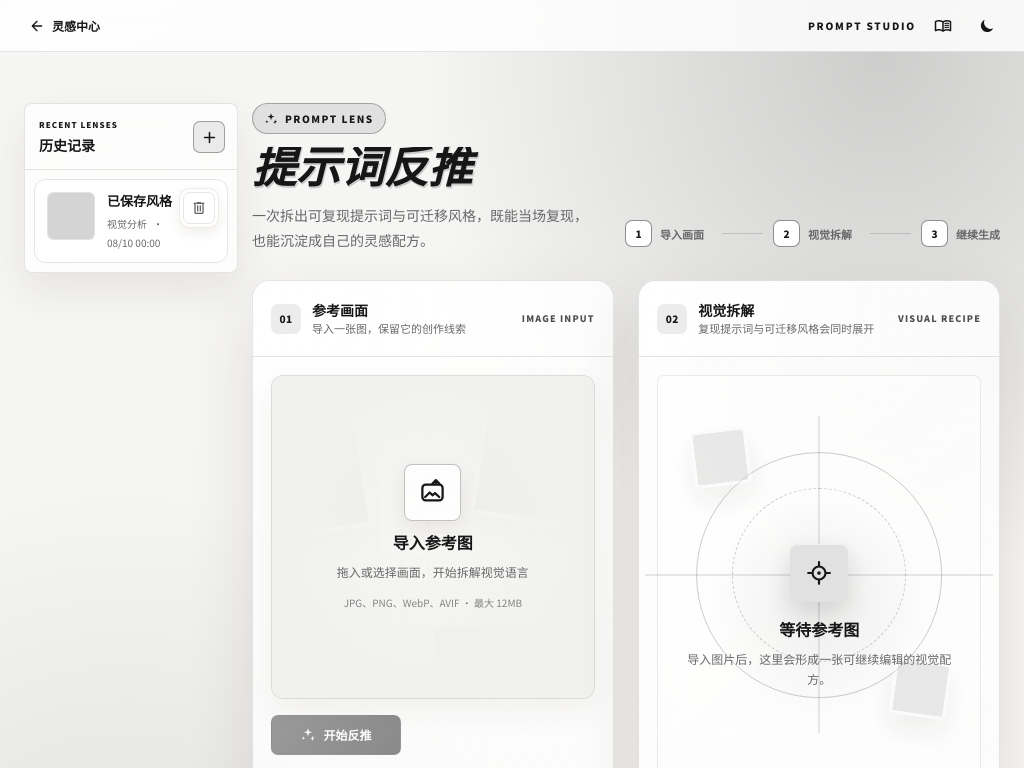
Test case: ImagePromptPage workspace layout › does not duplicate a recipe already attached to history
The width and height of the screenshot is (1024, 768).
Click the button "已保存风格 视觉分析 · 08/10 00:00": point(131, 221) [35,180,227,262]
(page scrolled)
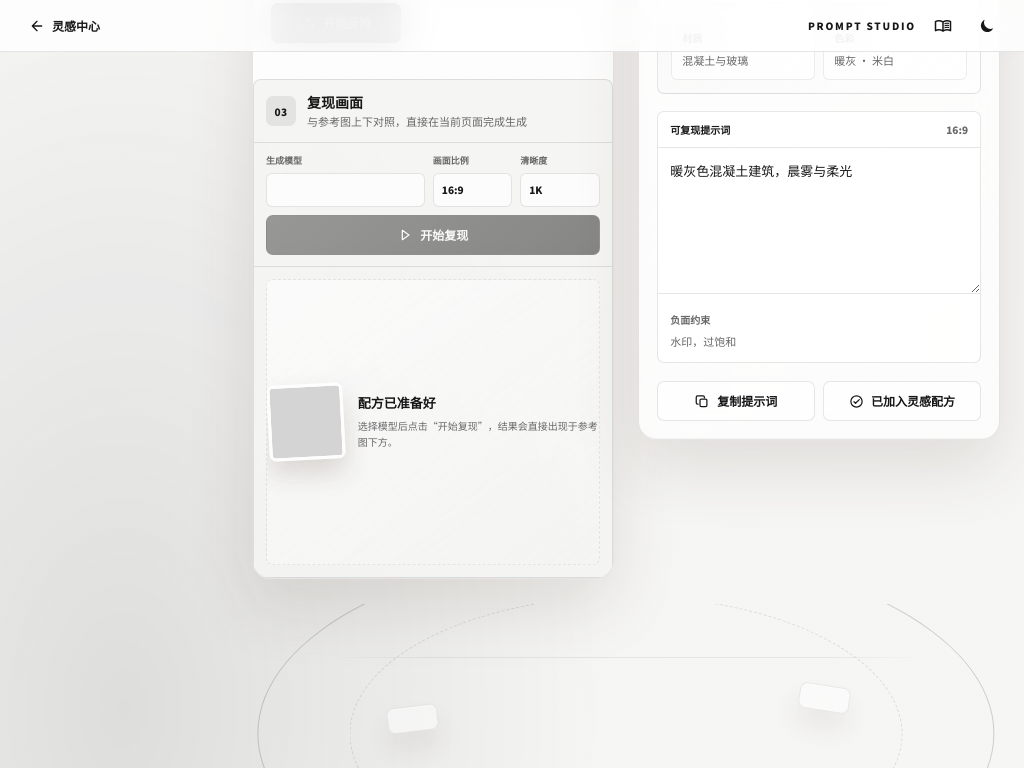
Now the button "已加入灵感配方" is disabled, box [823,381,981,421]
